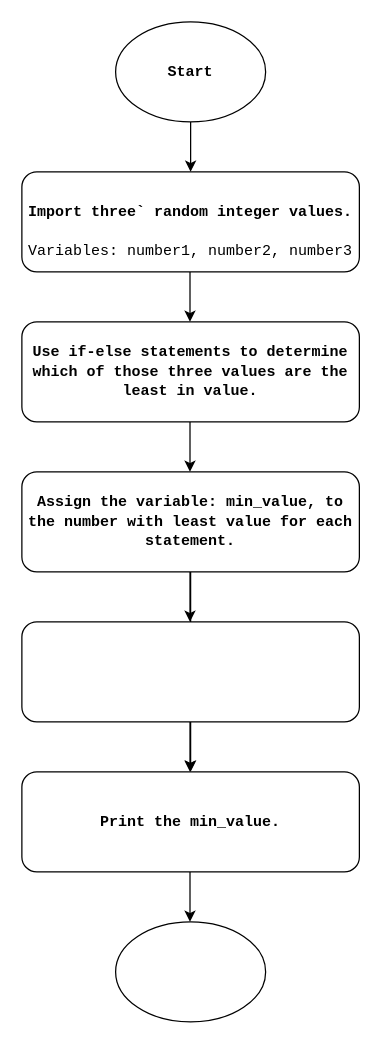
The diagram is 381 pixels wide and 1044 high, and some of its shapes have lost their labels. Here are the shapes that lost their labels. From the top down, the centre of each, then its label:
At pixel 190 671: "ex. if (number1 < number2) and (number2 < number3): min_value = number1".
At pixel 190 971: "End".
